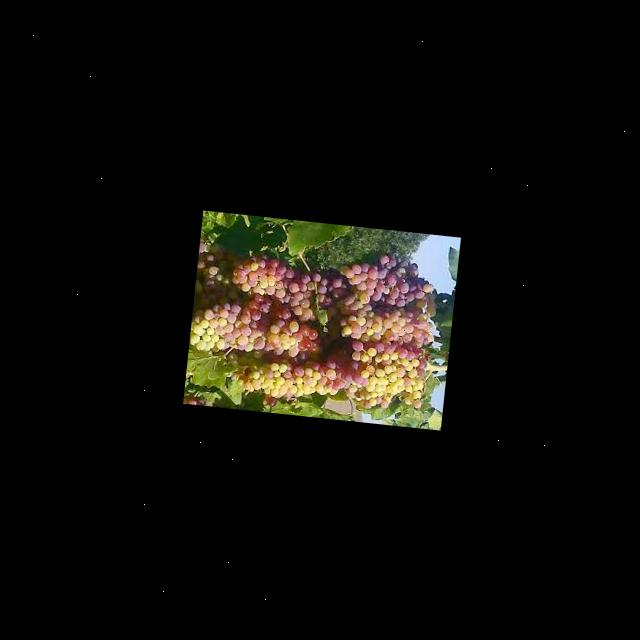grape: (183, 231, 443, 422)
